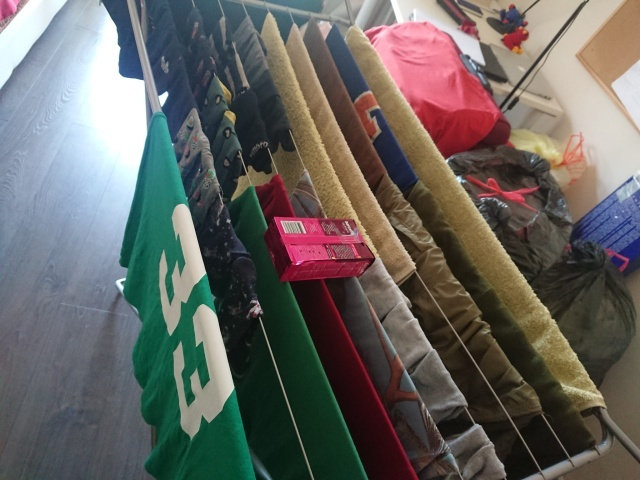Barcaffe Classic Original 225g: (262, 215, 378, 284)
